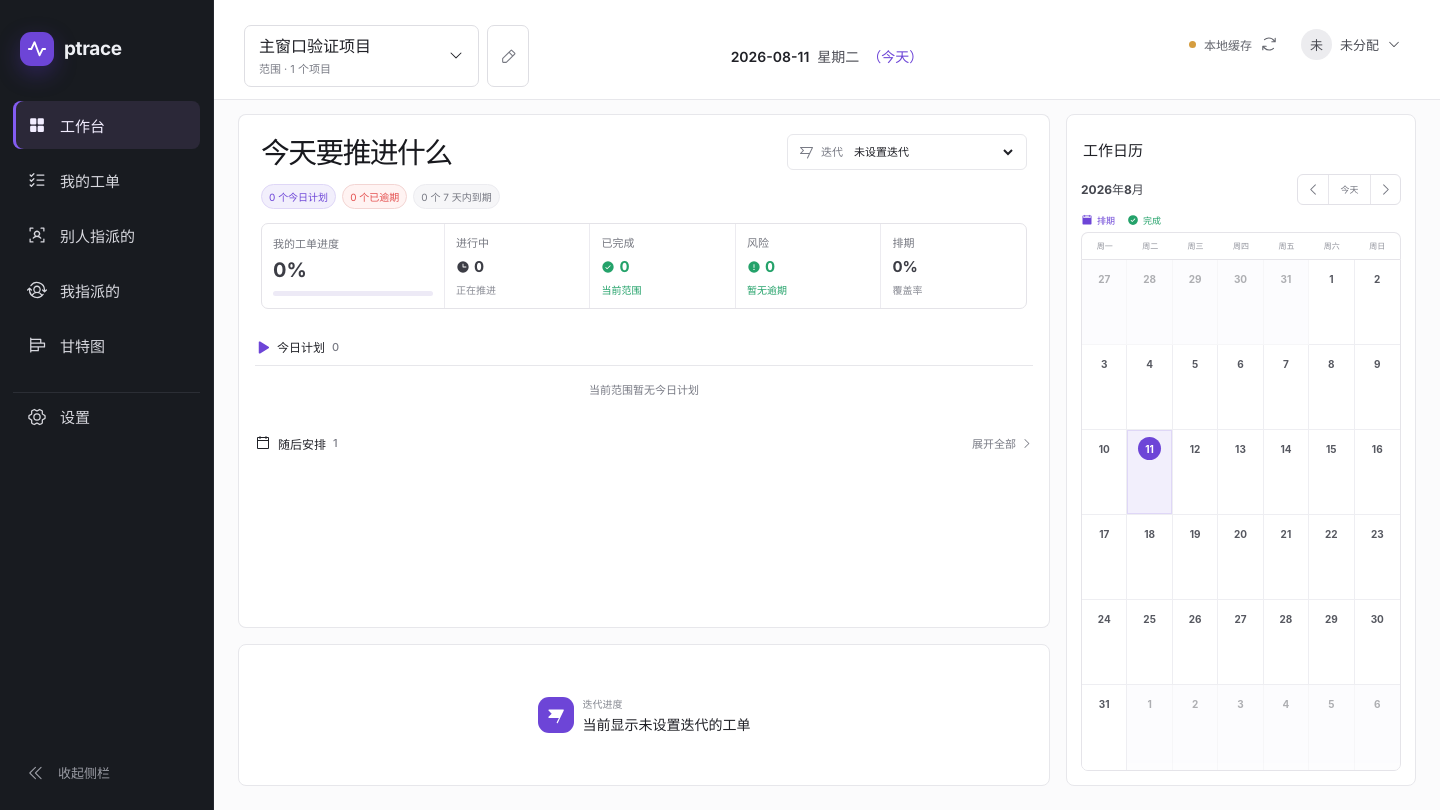
PtraceDesk core interactions › keeps settings and manual refresh available in the main window
The image size is (1440, 810).
What coordinates should you click on to do the following:
click the button "设置"
I would click on:
 (106, 416)
Its box is top-left (13, 392), bottom-right (200, 440).
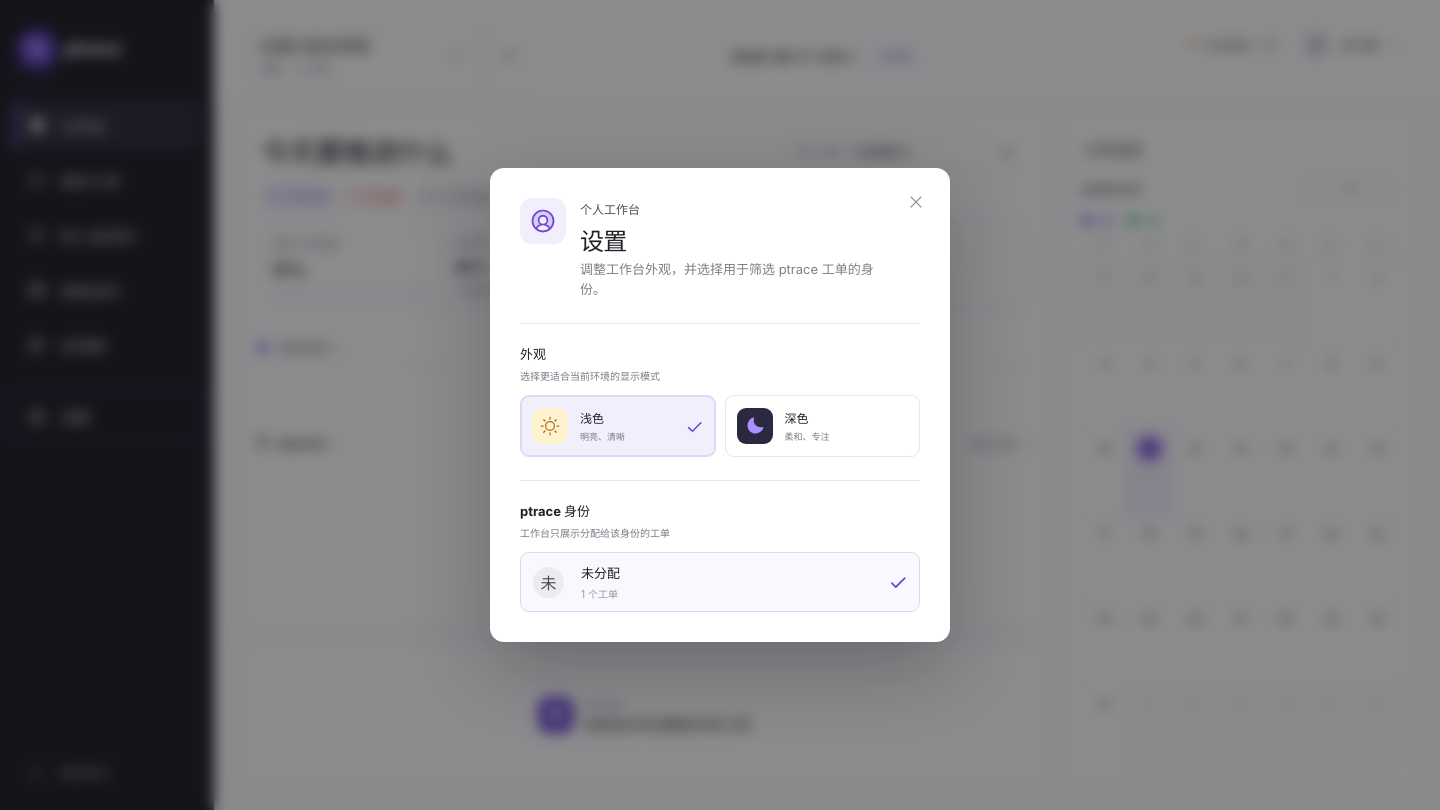
What coordinates should you click on to do the following:
click the button named "关闭"
I would click on:
 (916, 202)
Its box is top-left (900, 186), bottom-right (932, 218).
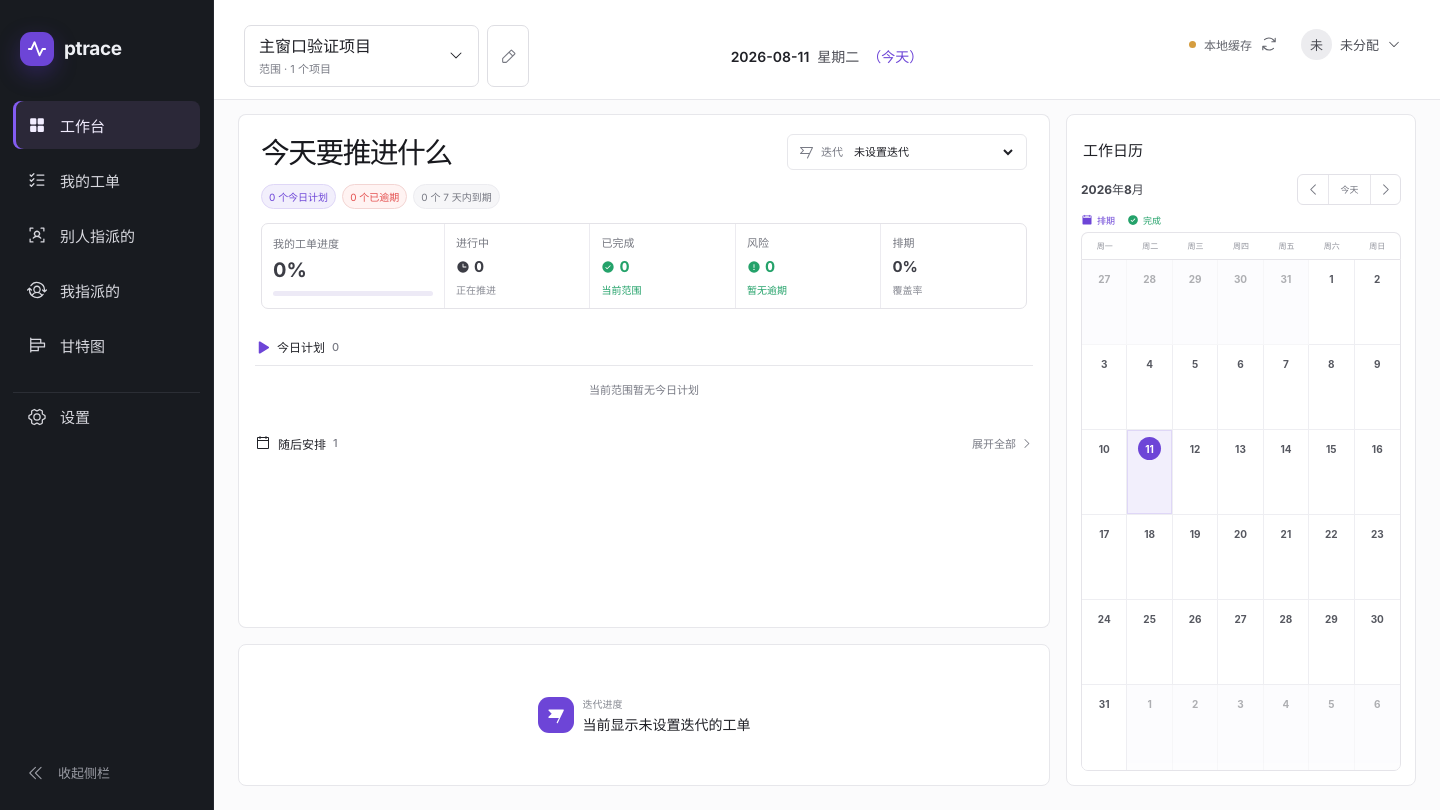
What coordinates should you click on to do the following:
click the button "本地缓存"
I would click on:
 (1232, 44)
Its box is top-left (1178, 25), bottom-right (1287, 63).
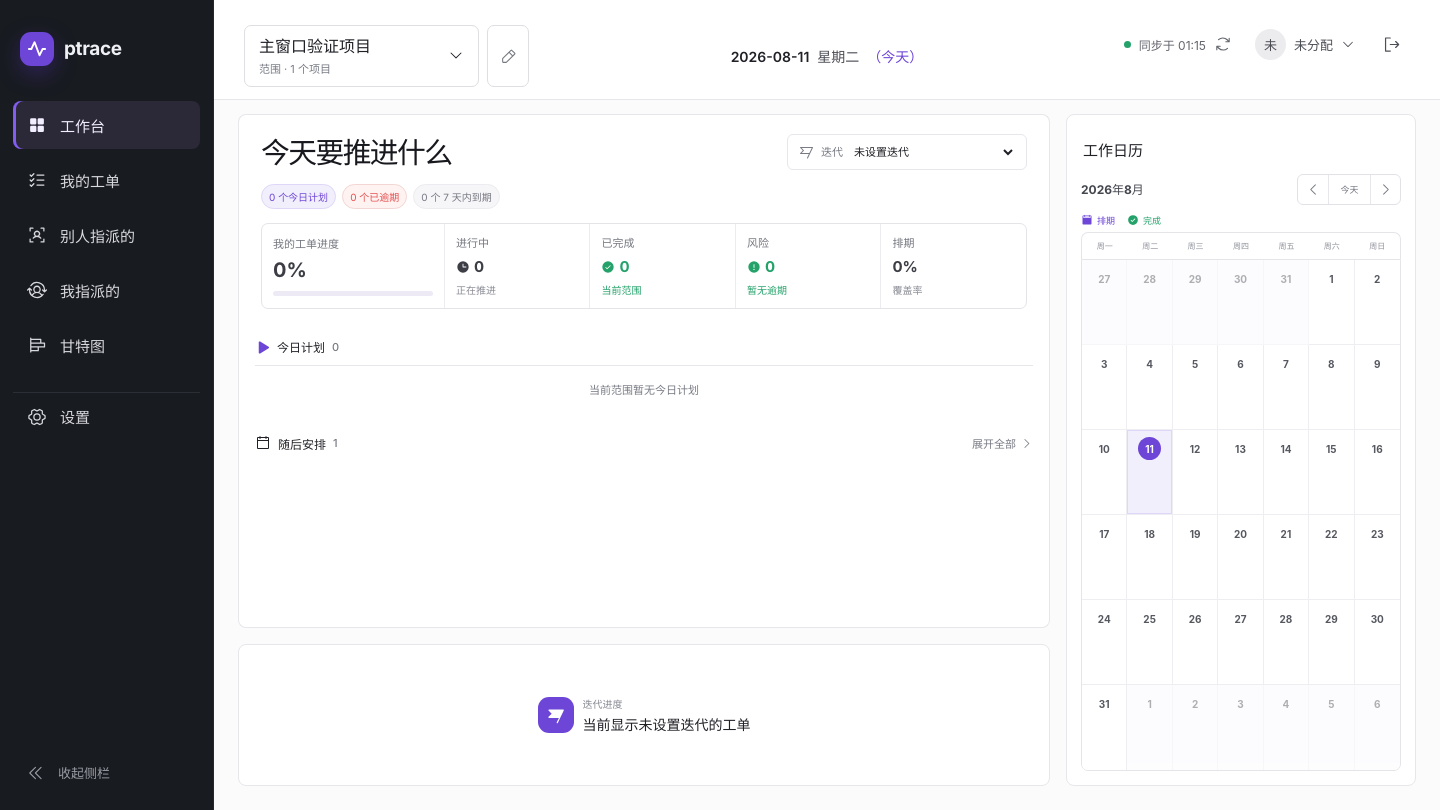
Expected: the button "同步于 01:15" is shown, top-left (1113, 25), bottom-right (1241, 63)
